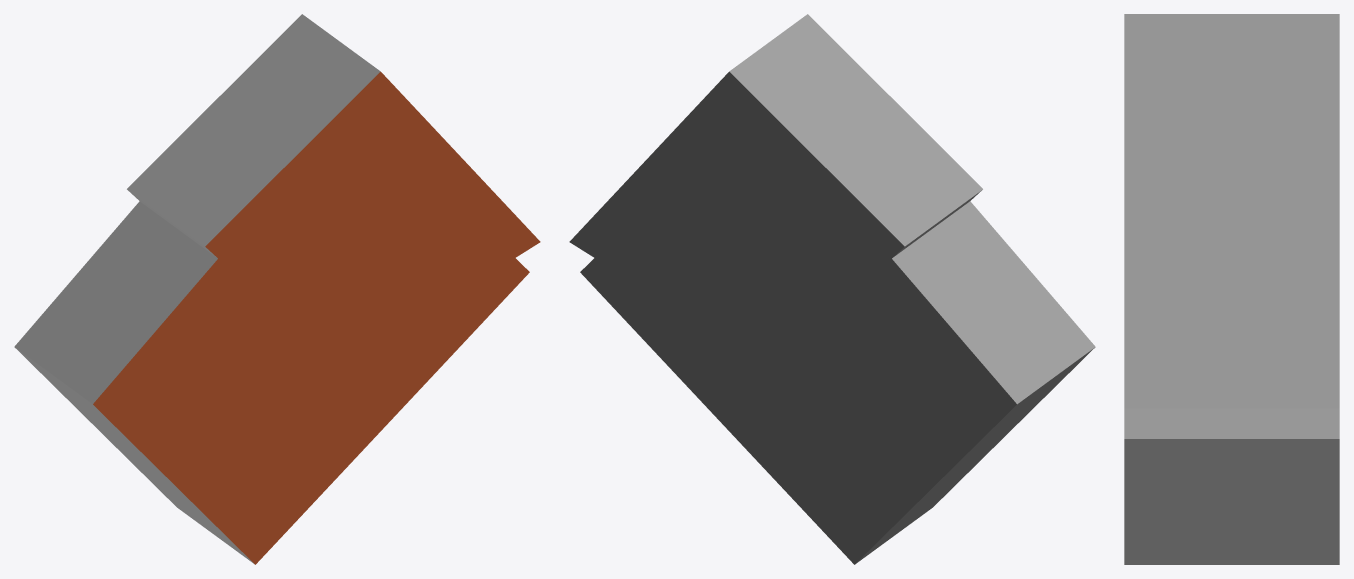
Rendered from construction_1432_assumed_A_Casa_h6m.obj.
3 views of the same model, side by side, from view 1: azimuth 30°, elevation 25°; view 2: azimuth 150°, elevation 25°; view 3: azimuth 270°, elevation 25° (orthographic). The views are drawn at different scales.
Visible parts, largest first — view 1: construction_1432_assumed_A_Casa; view 2: construction_1432_assumed_A_Casa; view 3: construction_1432_assumed_A_Casa.
Part boxes in pixels (x1,y1,x2,y2): construction_1432_assumed_A_Casa: [14, 14, 540, 564]; construction_1432_assumed_A_Casa: [569, 14, 1095, 564]; construction_1432_assumed_A_Casa: [1124, 14, 1339, 564].
Size of the model in its own units: 19.76 by 19.51 by 6.
